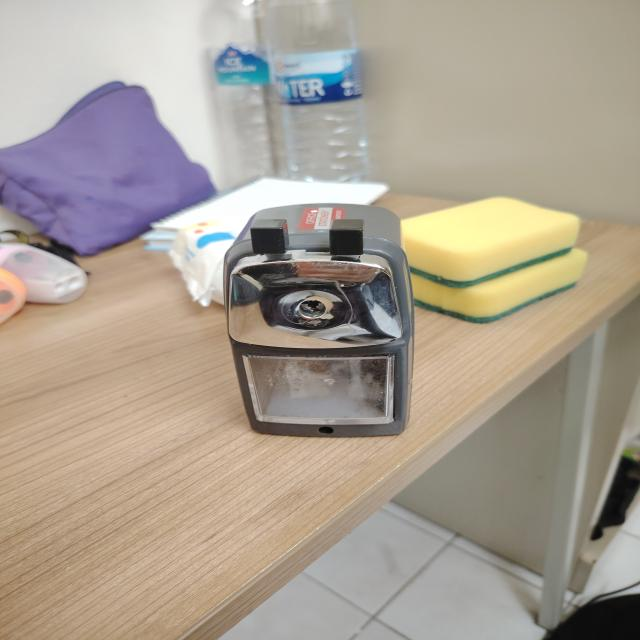sharpener: (225, 203, 413, 437), (0, 243, 87, 303)
